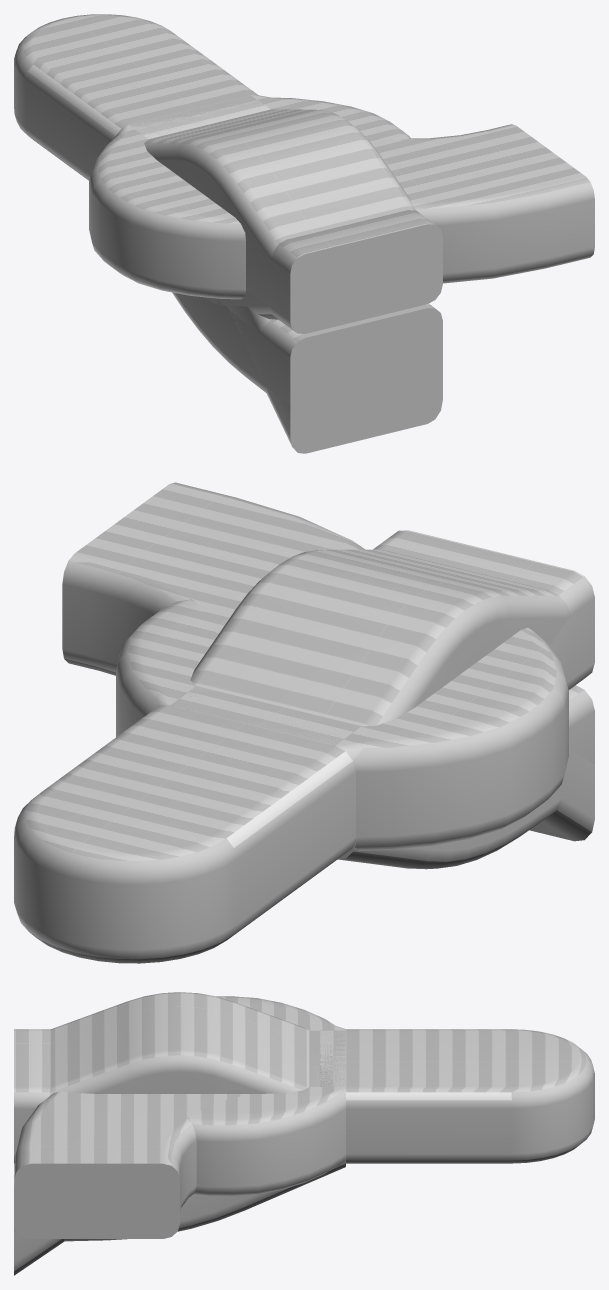
File: Floor_2x2_BothSofter_thick.fbx
The picture shows the model from 3 angles, top to bottom: view 1: azimuth 30°, elevation 25°; view 2: azimuth 150°, elevation 25°; view 3: azimuth 270°, elevation 25°; orthographic projection. The views are drawn at different scales.
Parts seen in each view (by area): view 1: Floor_2x2_BSr_T_hill, Floor_2x2_BSr_T_rotate, Floor_2x2_BSr_T_cap, Floor_2x2_BSr_T_circle, Floor_2x2_BSr_T_ramp1, Floor_2x2_BSr_T_ramp2, Floor_2x2_BSr_T_deep1, Floor_2x2_BSr_T_deep2; view 2: Floor_2x2_BSr_T_cap, Floor_2x2_BSr_T_hill, Floor_2x2_BSr_T_circle, Floor_2x2_BSr_T_rotate, Floor_2x2_BSr_T_deep2, Floor_2x2_BSr_T_ramp2, Floor_2x2_BSr_T_ramp1, Floor_2x2_BSr_T_deep1; view 3: Floor_2x2_BSr_T_cap, Floor_2x2_BSr_T_rotate, Floor_2x2_BSr_T_hill, Floor_2x2_BSr_T_circle, Floor_2x2_BSr_T_deep2, Floor_2x2_BSr_T_ramp2, Floor_2x2_BSr_T_ramp1.
Boxes of the visible parts, <box> form: Floor_2x2_BSr_T_hill: <box>144,109,442,333</box>; Floor_2x2_BSr_T_rotate: <box>129,95,594,283</box>; Floor_2x2_BSr_T_cap: <box>14,14,258,180</box>; Floor_2x2_BSr_T_circle: <box>89,95,410,299</box>; Floor_2x2_BSr_T_ramp1: <box>225,299,442,453</box>; Floor_2x2_BSr_T_ramp2: <box>172,292,442,405</box>; Floor_2x2_BSr_T_deep1: <box>203,224,442,333</box>; Floor_2x2_BSr_T_deep2: <box>131,95,442,333</box>; Floor_2x2_BSr_T_cap: <box>14,705,355,963</box>; Floor_2x2_BSr_T_hill: <box>190,549,594,726</box>; Floor_2x2_BSr_T_circle: <box>116,599,568,851</box>; Floor_2x2_BSr_T_rotate: <box>62,482,365,745</box>; Floor_2x2_BSr_T_deep2: <box>170,530,594,744</box>; Floor_2x2_BSr_T_ramp2: <box>338,685,594,869</box>; Floor_2x2_BSr_T_ramp1: <box>529,749,594,841</box>; Floor_2x2_BSr_T_deep1: <box>550,598,594,689</box>; Floor_2x2_BSr_T_cap: <box>346,1029,594,1163</box>; Floor_2x2_BSr_T_rotate: <box>14,1030,345,1238</box>; Floor_2x2_BSr_T_hill: <box>14,992,309,1153</box>; Floor_2x2_BSr_T_circle: <box>187,996,346,1196</box>; Floor_2x2_BSr_T_deep2: <box>14,1029,345,1152</box>; Floor_2x2_BSr_T_ramp2: <box>14,1155,345,1241</box>; Floor_2x2_BSr_T_ramp1: <box>14,1233,64,1275</box>.
Bounding box in the file's own units: 493 × 299 × 700.
